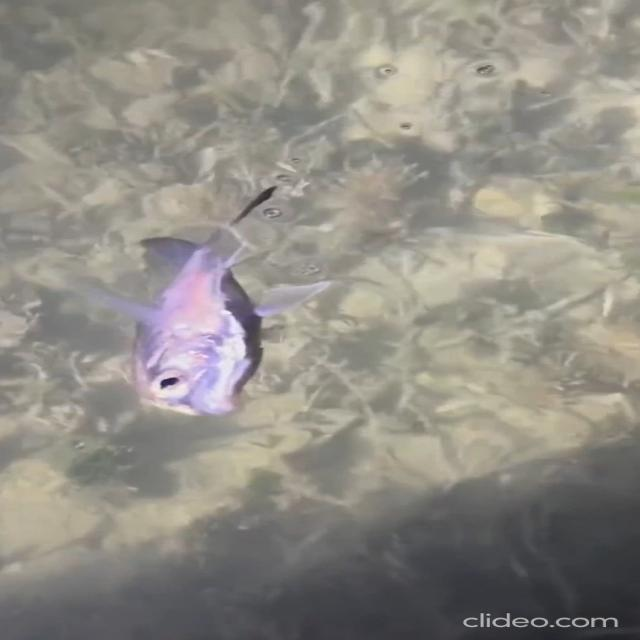fish: (127, 186, 318, 426)
